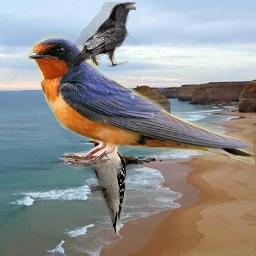Crow: (68, 2, 136, 67)
Swallow: (22, 32, 255, 173)
Woodpecker: (90, 134, 126, 235)
